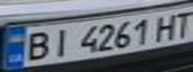1: (130, 16, 154, 45)
2: (97, 20, 118, 53)
4: (75, 22, 100, 54)
6: (115, 18, 136, 50)
B: (18, 29, 54, 62)
H: (151, 11, 181, 42)
I: (45, 26, 75, 59)
T: (166, 7, 193, 38)
